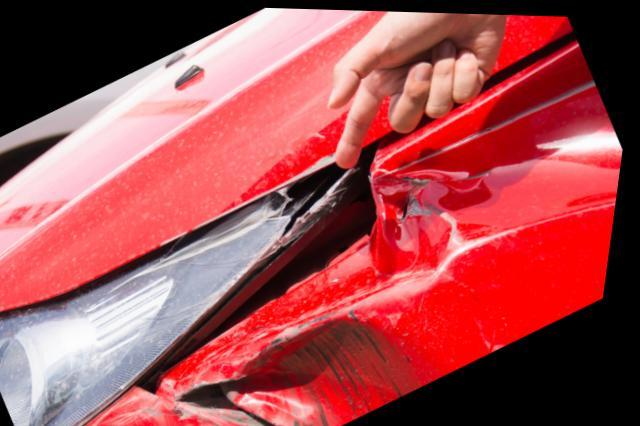dent: (181, 99, 626, 426)
dislocated part: (147, 34, 626, 426)
lamp broken: (0, 161, 362, 426)
scratch: (100, 387, 249, 426)
